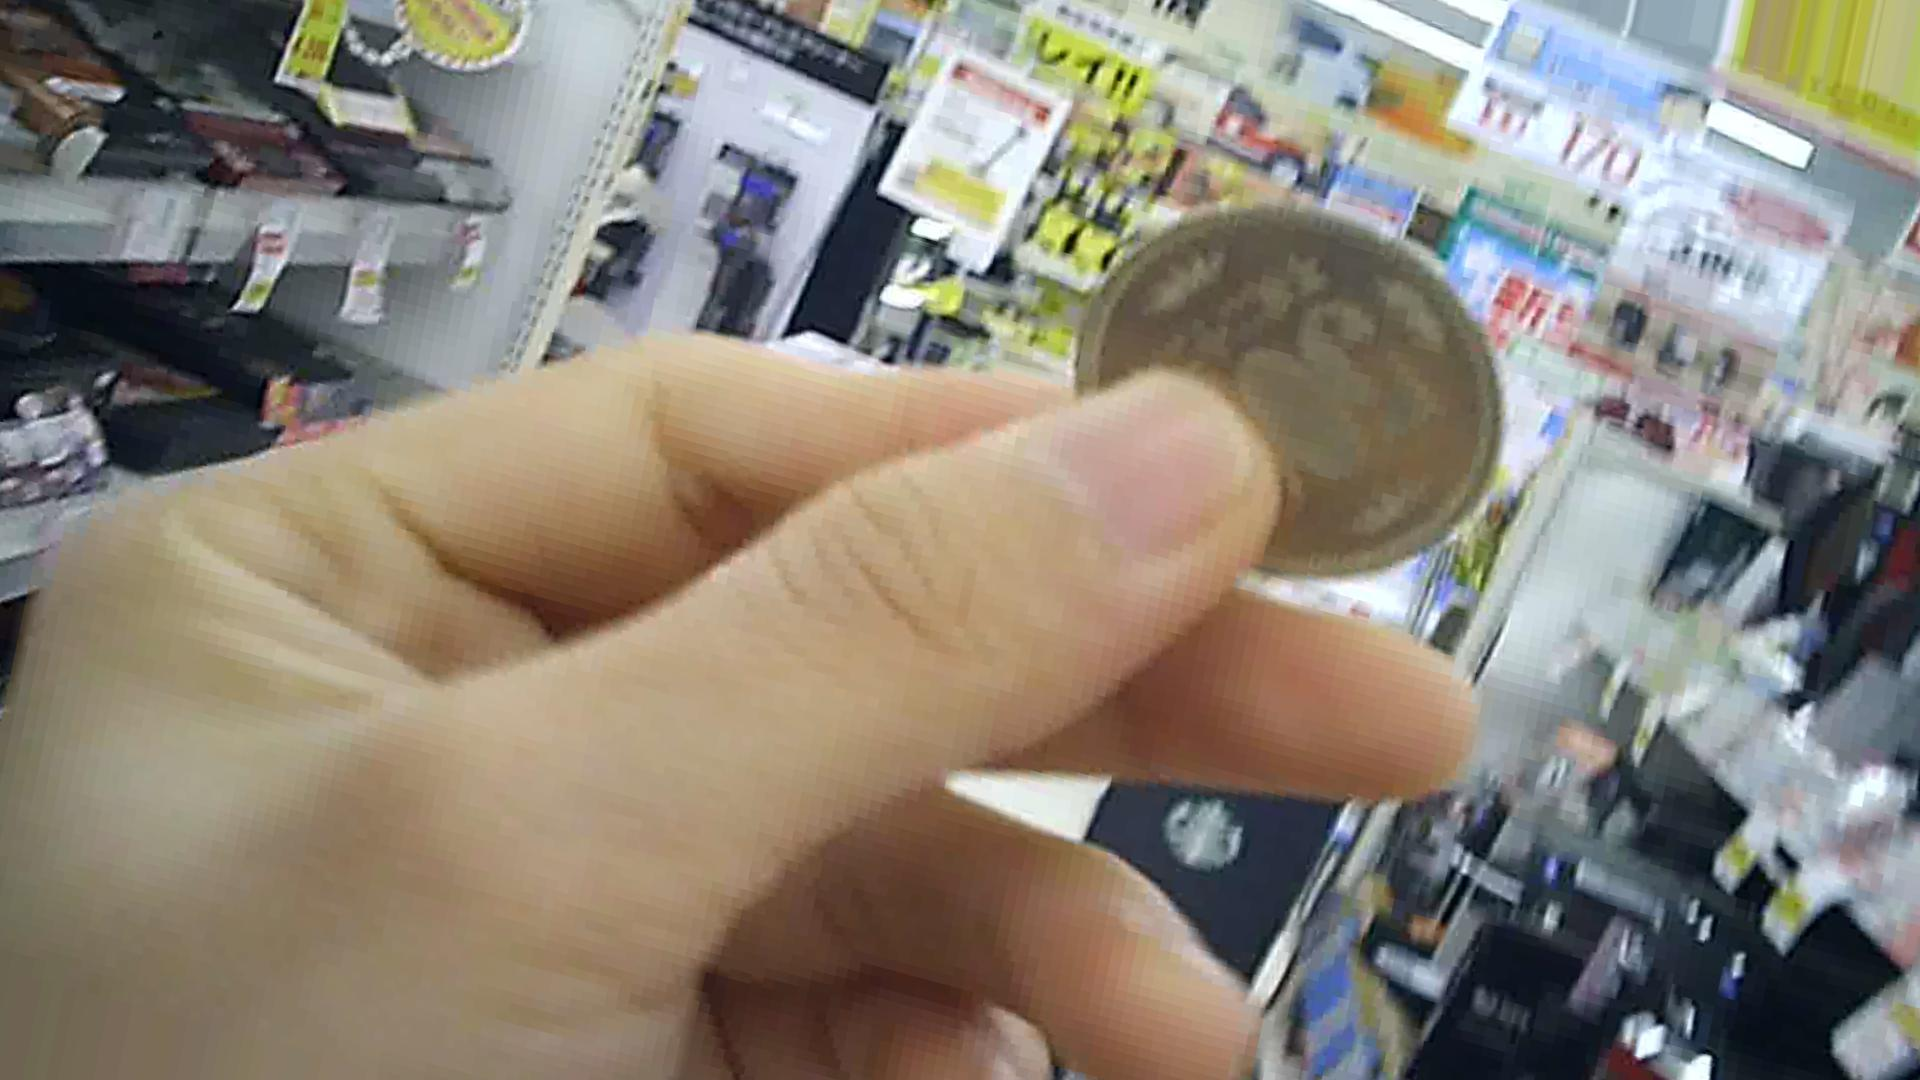500 Yen: (1073, 189, 1505, 572)
